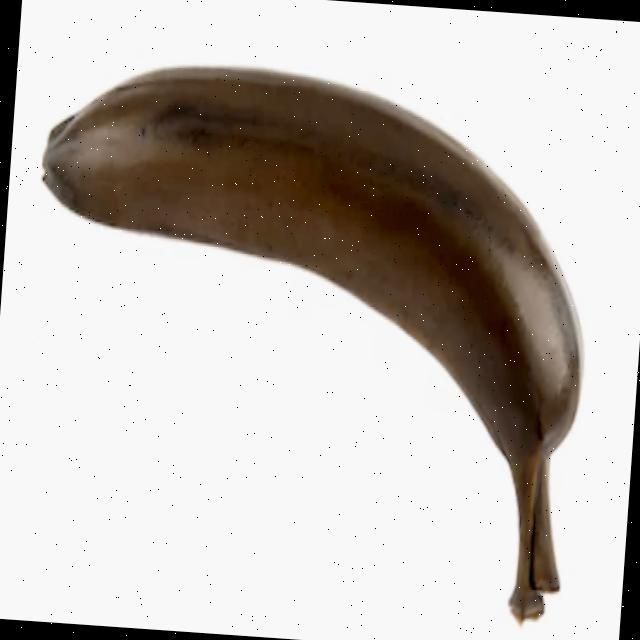rotten banana: (9, 2, 621, 640)
